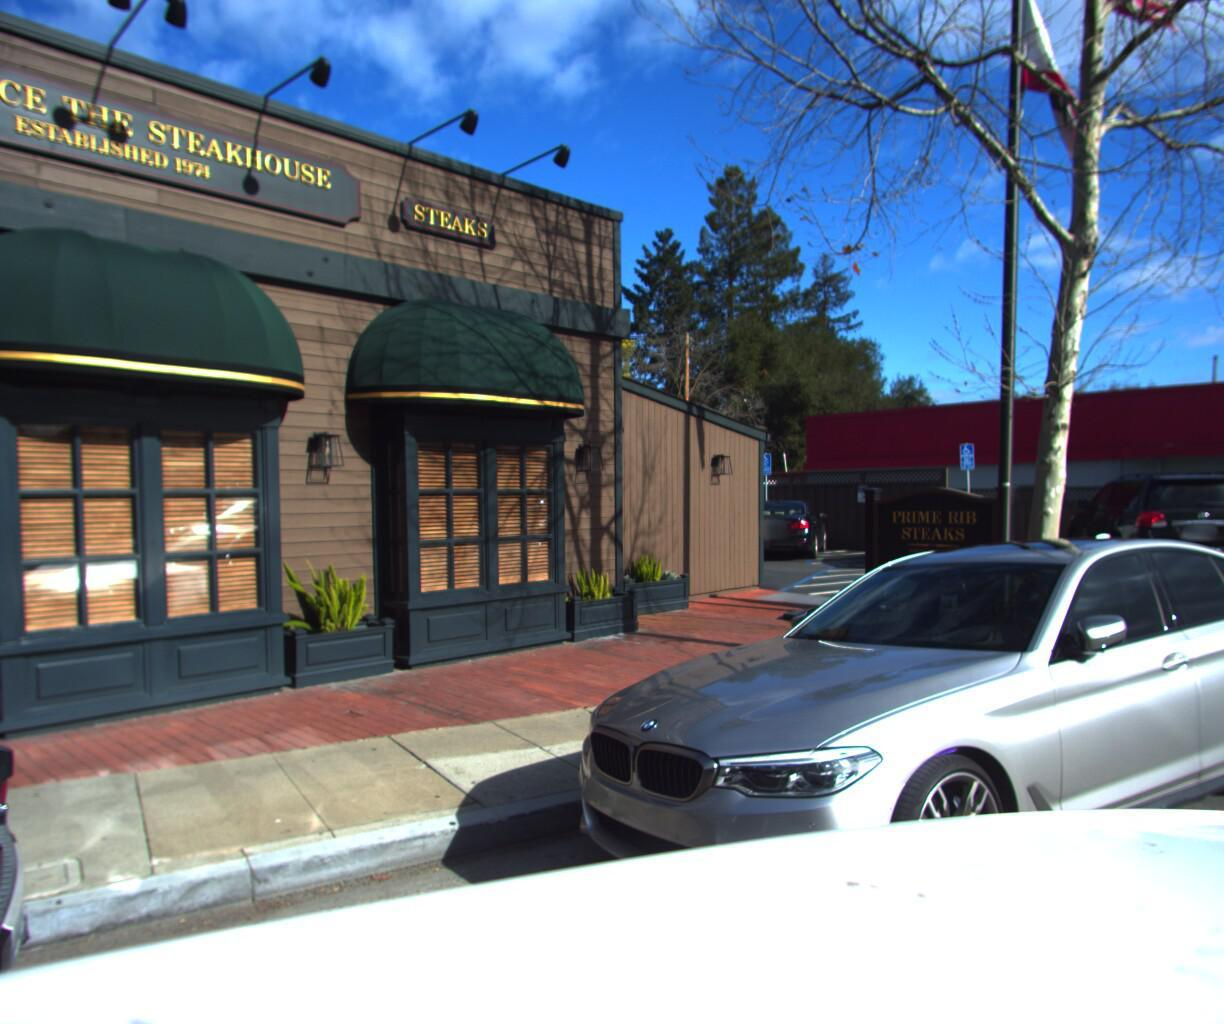car: (529, 511, 1224, 1024), (1065, 459, 1224, 581)
